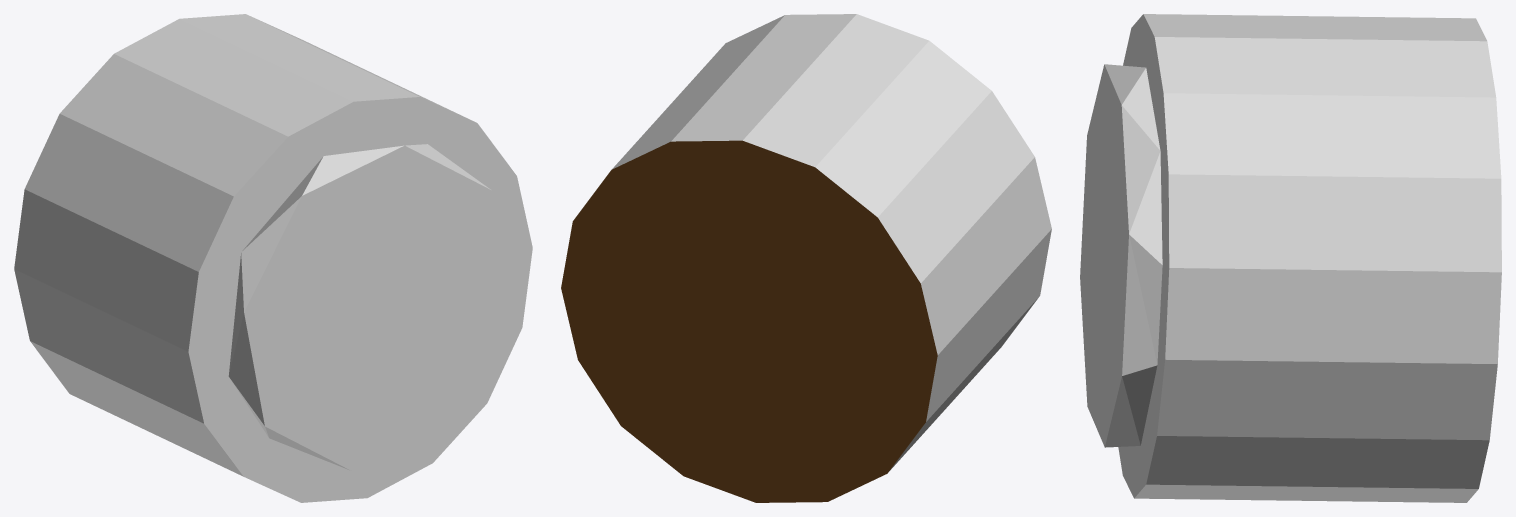
The model's file is torso_z_link_visual_6.obj.
3 views of the same model, side by side, from view 1: azimuth 30°, elevation 25°; view 2: azimuth 150°, elevation 25°; view 3: azimuth 270°, elevation 25° (orthographic). The views are drawn at different scales.
Visible parts, largest first — view 1: i01.torso.topStom.full.007_visual.001; view 2: i01.torso.topStom.full.007_visual.001; view 3: i01.torso.topStom.full.007_visual.001.
Part boxes in pixels (box(x1,y1,x2,y2)): i01.torso.topStom.full.007_visual.001: box(14, 14, 532, 502); i01.torso.topStom.full.007_visual.001: box(561, 14, 1051, 502); i01.torso.topStom.full.007_visual.001: box(1080, 14, 1501, 502).
Size of the model in its own units: 0.1199 by 0.1169 by 0.0975.
